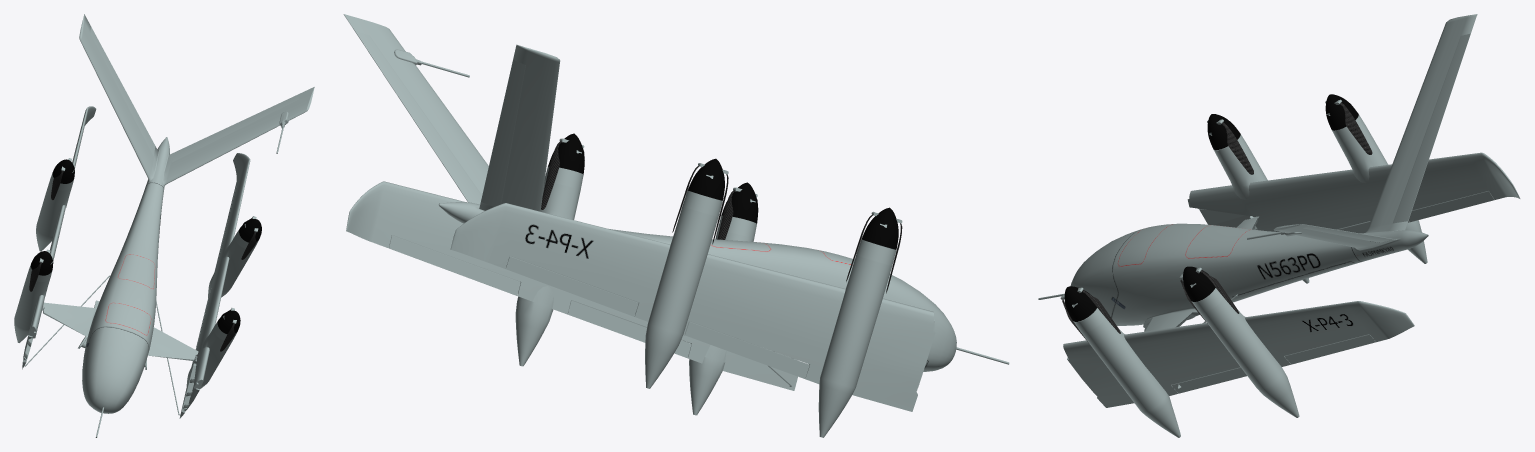
Rendered from Ptero_Dynamics.obj.
3 views of the same model, side by side, from view 1: azimuth 30°, elevation 25°; view 2: azimuth 150°, elevation 25°; view 3: azimuth 270°, elevation 25° (orthographic). The views are drawn at different scales.
Parts seen in each view (by area): view 1: Box001_Material__51_0, Object013_Material__51_0, Object020_Material__51_0, Object019_Material__51_0, Object014_Material__51_0, Object022_Material__51_0, Object021_Material__51_0; view 2: Object020_Material__51_0, Box001_Material__51_0, Object013_Material__51_0, Object021_Material__51_0, Object022_Material__51_0, Object014_Material__51_0, Object019_Material__51_0; view 3: Box001_Material__51_0, Object013_Material__51_0, Object020_Material__51_0, Object014_Material__51_0, Object019_Material__51_0, Object022_Material__51_0, Object021_Material__51_0, Line036_Material__51_0, Line034_Material__51_0.
Boxes of the visible parts, x1,y1,x2,y2 form: Box001_Material__51_0: [42, 14, 314, 437]; Object013_Material__51_0: [178, 153, 258, 418]; Object020_Material__51_0: [14, 106, 96, 369]; Object019_Material__51_0: [239, 216, 261, 242]; Object014_Material__51_0: [217, 308, 240, 334]; Object022_Material__51_0: [52, 158, 74, 183]; Object021_Material__51_0: [31, 249, 53, 275]; Object020_Material__51_0: [450, 190, 935, 437]; Box001_Material__51_0: [343, 14, 1009, 371]; Object013_Material__51_0: [346, 166, 797, 415]; Object021_Material__51_0: [861, 207, 902, 249]; Object022_Material__51_0: [688, 158, 728, 200]; Object014_Material__51_0: [721, 182, 758, 223]; Object019_Material__51_0: [548, 133, 584, 174]; Box001_Material__51_0: [1038, 14, 1477, 331]; Object013_Material__51_0: [1063, 288, 1414, 437]; Object020_Material__51_0: [1187, 114, 1520, 283]; Object014_Material__51_0: [1060, 286, 1096, 321]; Object019_Material__51_0: [1179, 266, 1215, 301]; Object022_Material__51_0: [1325, 94, 1358, 130]; Object021_Material__51_0: [1207, 114, 1240, 150]; Line036_Material__51_0: [1340, 102, 1372, 154]; Line034_Material__51_0: [1222, 122, 1253, 174].
Bounding box in the file's own units: 72.85 × 65.29 × 67.04.
Materials: 1 (1 with a texture image).
